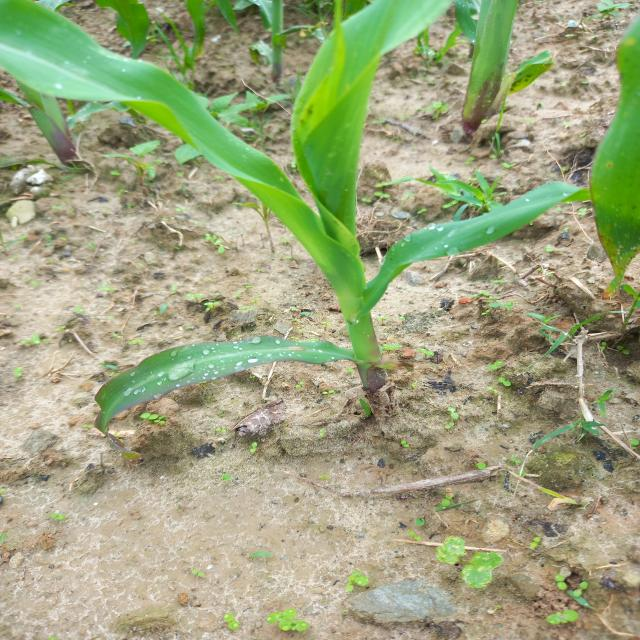maize: (23, 12, 410, 458), (439, 1, 640, 178), (518, 171, 640, 315)
weed: (435, 538, 591, 627), (435, 176, 497, 213)
